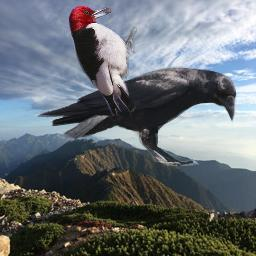Crow: (35, 66, 237, 166)
Woodpecker: (68, 5, 137, 116)
